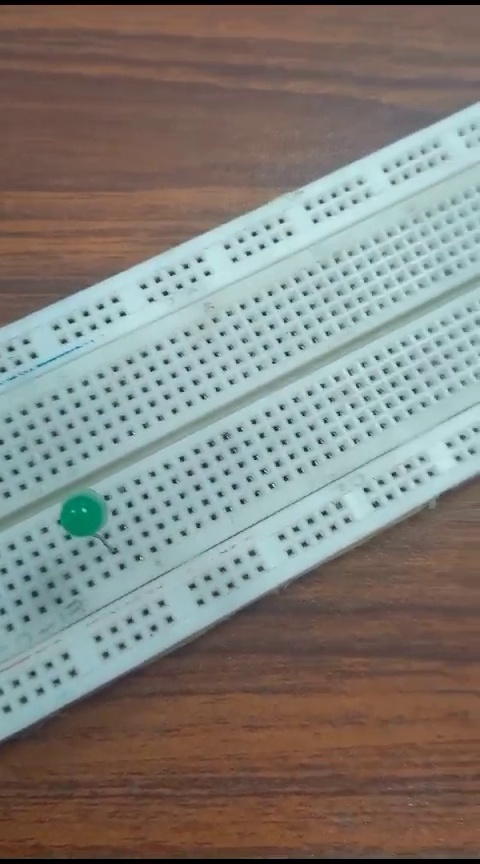LED: (52, 485, 112, 548)
